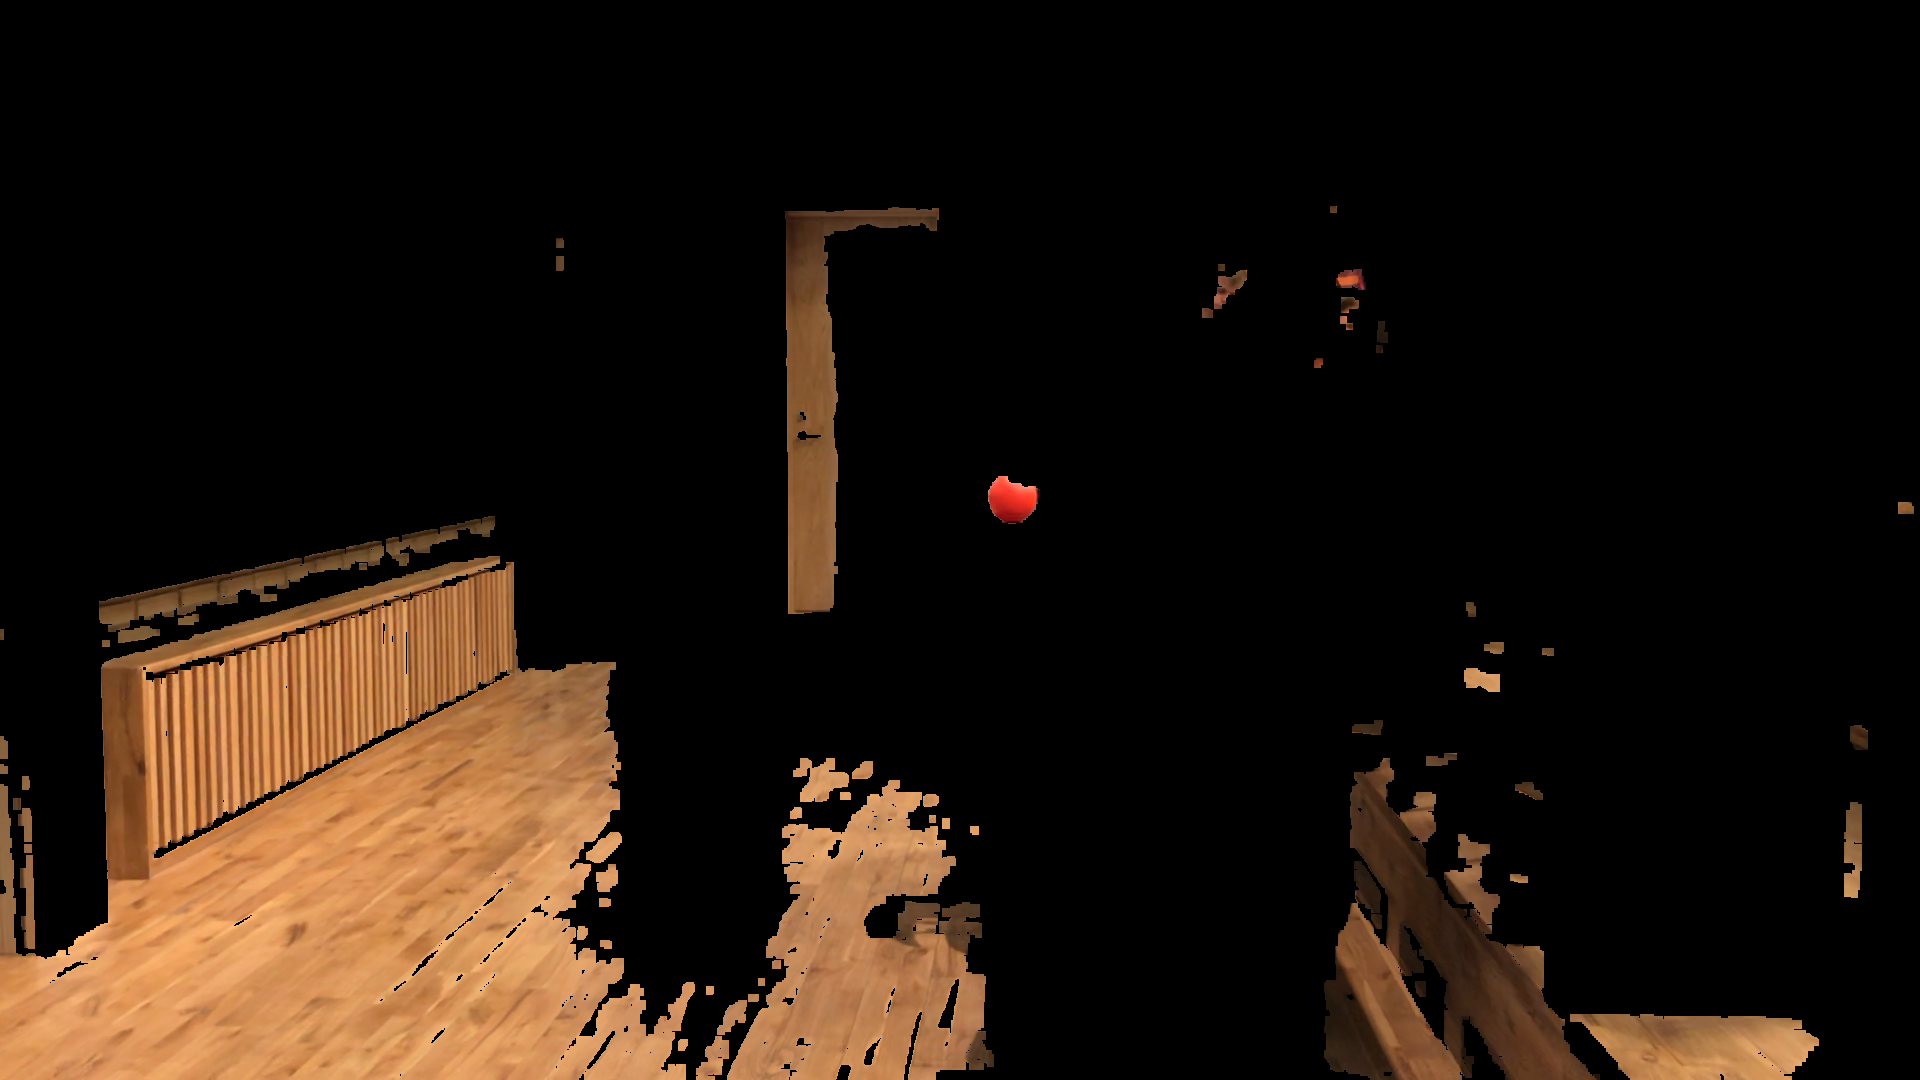Ball: (988, 469, 1034, 524)
